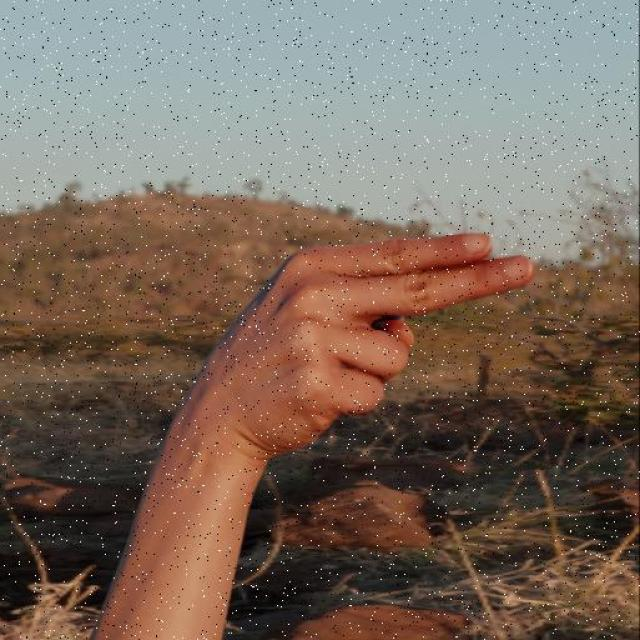H: (215, 230, 535, 455)
